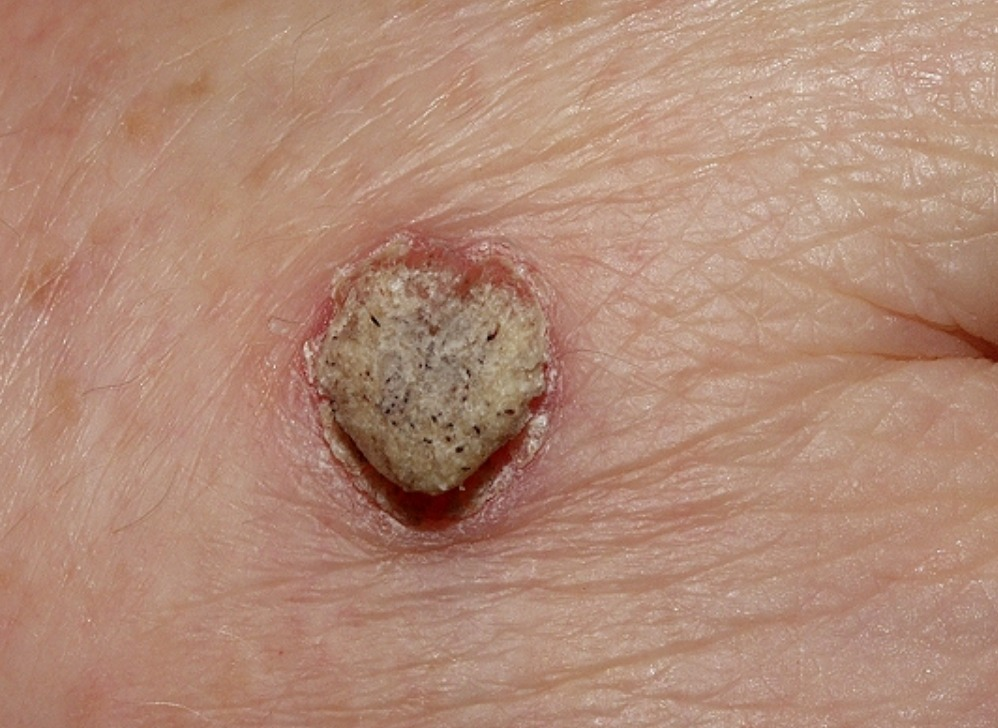Warts: (291, 198, 614, 574)
